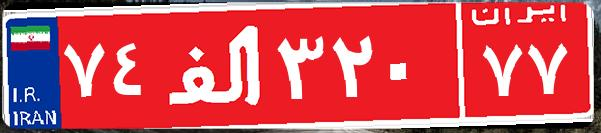0: (385, 28, 445, 110)
2: (330, 28, 385, 110)
3: (273, 28, 330, 110)
4: (110, 28, 158, 105)
7: (57, 26, 110, 107), (475, 38, 525, 113), (525, 38, 570, 115)
الف: (158, 15, 273, 115)
